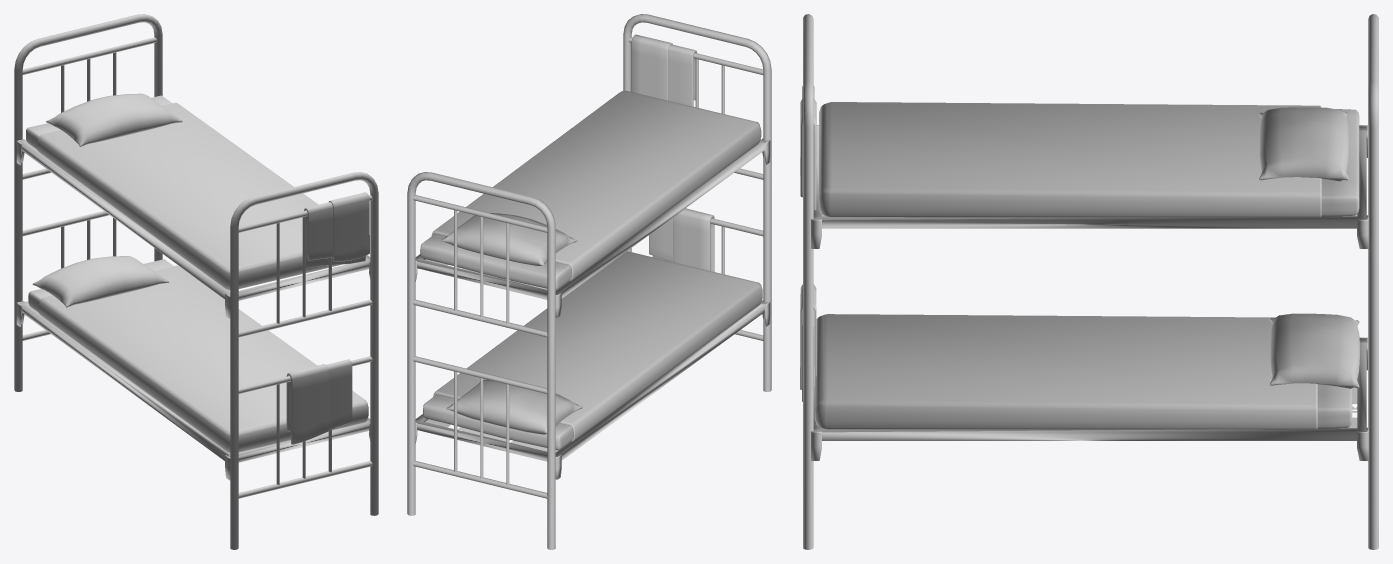
Rendered from Litera.obj.
3 renders of one model, left to right at view 1: azimuth 30°, elevation 25°; view 2: azimuth 150°, elevation 25°; view 3: azimuth 270°, elevation 25°, orthographic. The views are drawn at different scales.
Parts seen in each view (by area): view 1: Planket002, Planket001, Railing002, Railing001, Towel001, Towel002, Pillow002, Pillow001, Bedframes002, Bedframe001, Mattress002, Mattress001; view 2: Planket001, Planket002, Railing001, Railing002, Bedframe001, Bedframes002, Pillow001, Towel002, Pillow002, Towel001, Mattress002, Mattress001; view 3: Planket001, Planket002, Bedframes002, Bedframe001, Pillow001, Pillow002, Railing001, Railing002, Mattress002, Mattress001, Towel002, Towel001.
Part boxes in pixels (box(x1,y1,x2,y2)): Planket002: box(37, 102, 365, 290); Planket001: box(39, 265, 368, 452); Railing002: box(230, 172, 378, 549); Railing001: box(14, 14, 162, 391); Towel001: box(286, 359, 352, 444); Towel002: box(304, 192, 369, 268); Pillow002: box(46, 93, 182, 146); Pillow001: box(32, 256, 168, 307); Bedframes002: box(16, 139, 370, 318); Bedframe001: box(16, 301, 370, 480); Mattress002: box(26, 95, 171, 149); Mattress001: box(28, 259, 173, 312); Planket001: box(433, 251, 762, 442); Planket002: box(431, 90, 761, 281); Railing001: box(407, 172, 555, 549); Railing002: box(623, 14, 771, 391); Bedframe001: box(415, 300, 770, 479); Bedframes002: box(415, 138, 770, 317); Pillow001: box(446, 379, 582, 434); Towel002: box(631, 34, 697, 106); Pillow002: box(441, 213, 577, 265); Towel001: box(649, 208, 714, 271); Mattress002: box(420, 234, 571, 290); Mattress001: box(423, 394, 572, 450); Planket001: box(814, 314, 1317, 429); Planket002: box(819, 102, 1321, 217); Bedframes002: box(811, 125, 1368, 248); Bedframe001: box(811, 337, 1368, 460); Pillow001: box(1270, 313, 1359, 388); Pillow002: box(1259, 107, 1349, 181); Railing001: box(1368, 14, 1378, 549); Railing002: box(803, 14, 813, 549); Mattress002: box(1321, 109, 1359, 216); Mattress001: box(1317, 384, 1352, 428); Towel002: box(800, 85, 816, 210); Towel001: box(800, 284, 816, 401).
Size of the model in its own units: 71.15 by 159 by 184.
Materials: 2 (1 with a texture image).
